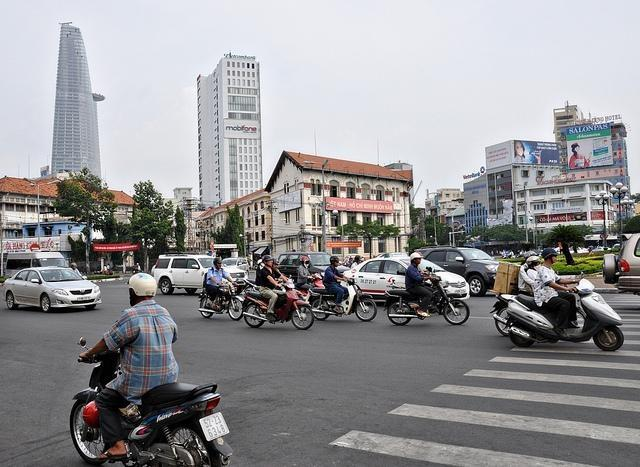car: (343, 256, 471, 301), (2, 266, 102, 314), (420, 246, 498, 296), (150, 252, 214, 297), (275, 252, 351, 287), (603, 234, 640, 293), (222, 258, 251, 276), (252, 247, 270, 268), (592, 246, 604, 252)
motorcycle: (70, 348, 232, 461), (506, 271, 626, 351), (383, 266, 471, 326), (242, 282, 314, 330), (308, 282, 376, 321), (196, 276, 244, 322), (488, 294, 516, 340), (292, 272, 326, 302)
